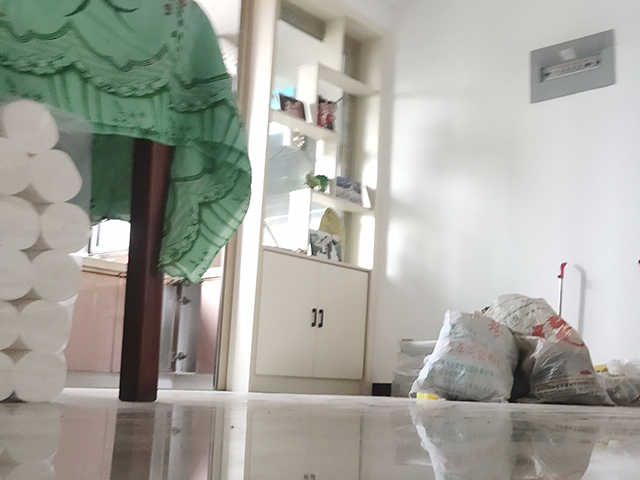cabinet: (64, 256, 223, 393), (241, 244, 381, 395)
table: (1, 1, 233, 404)
